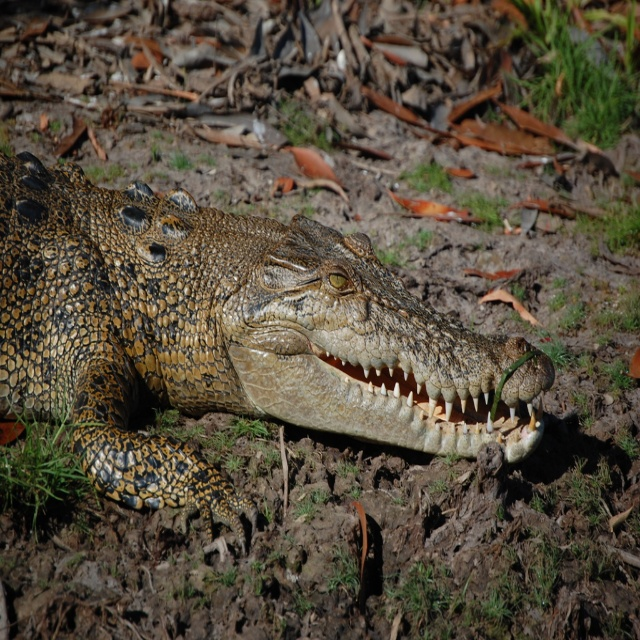Crocodile: (0, 150, 556, 559)
